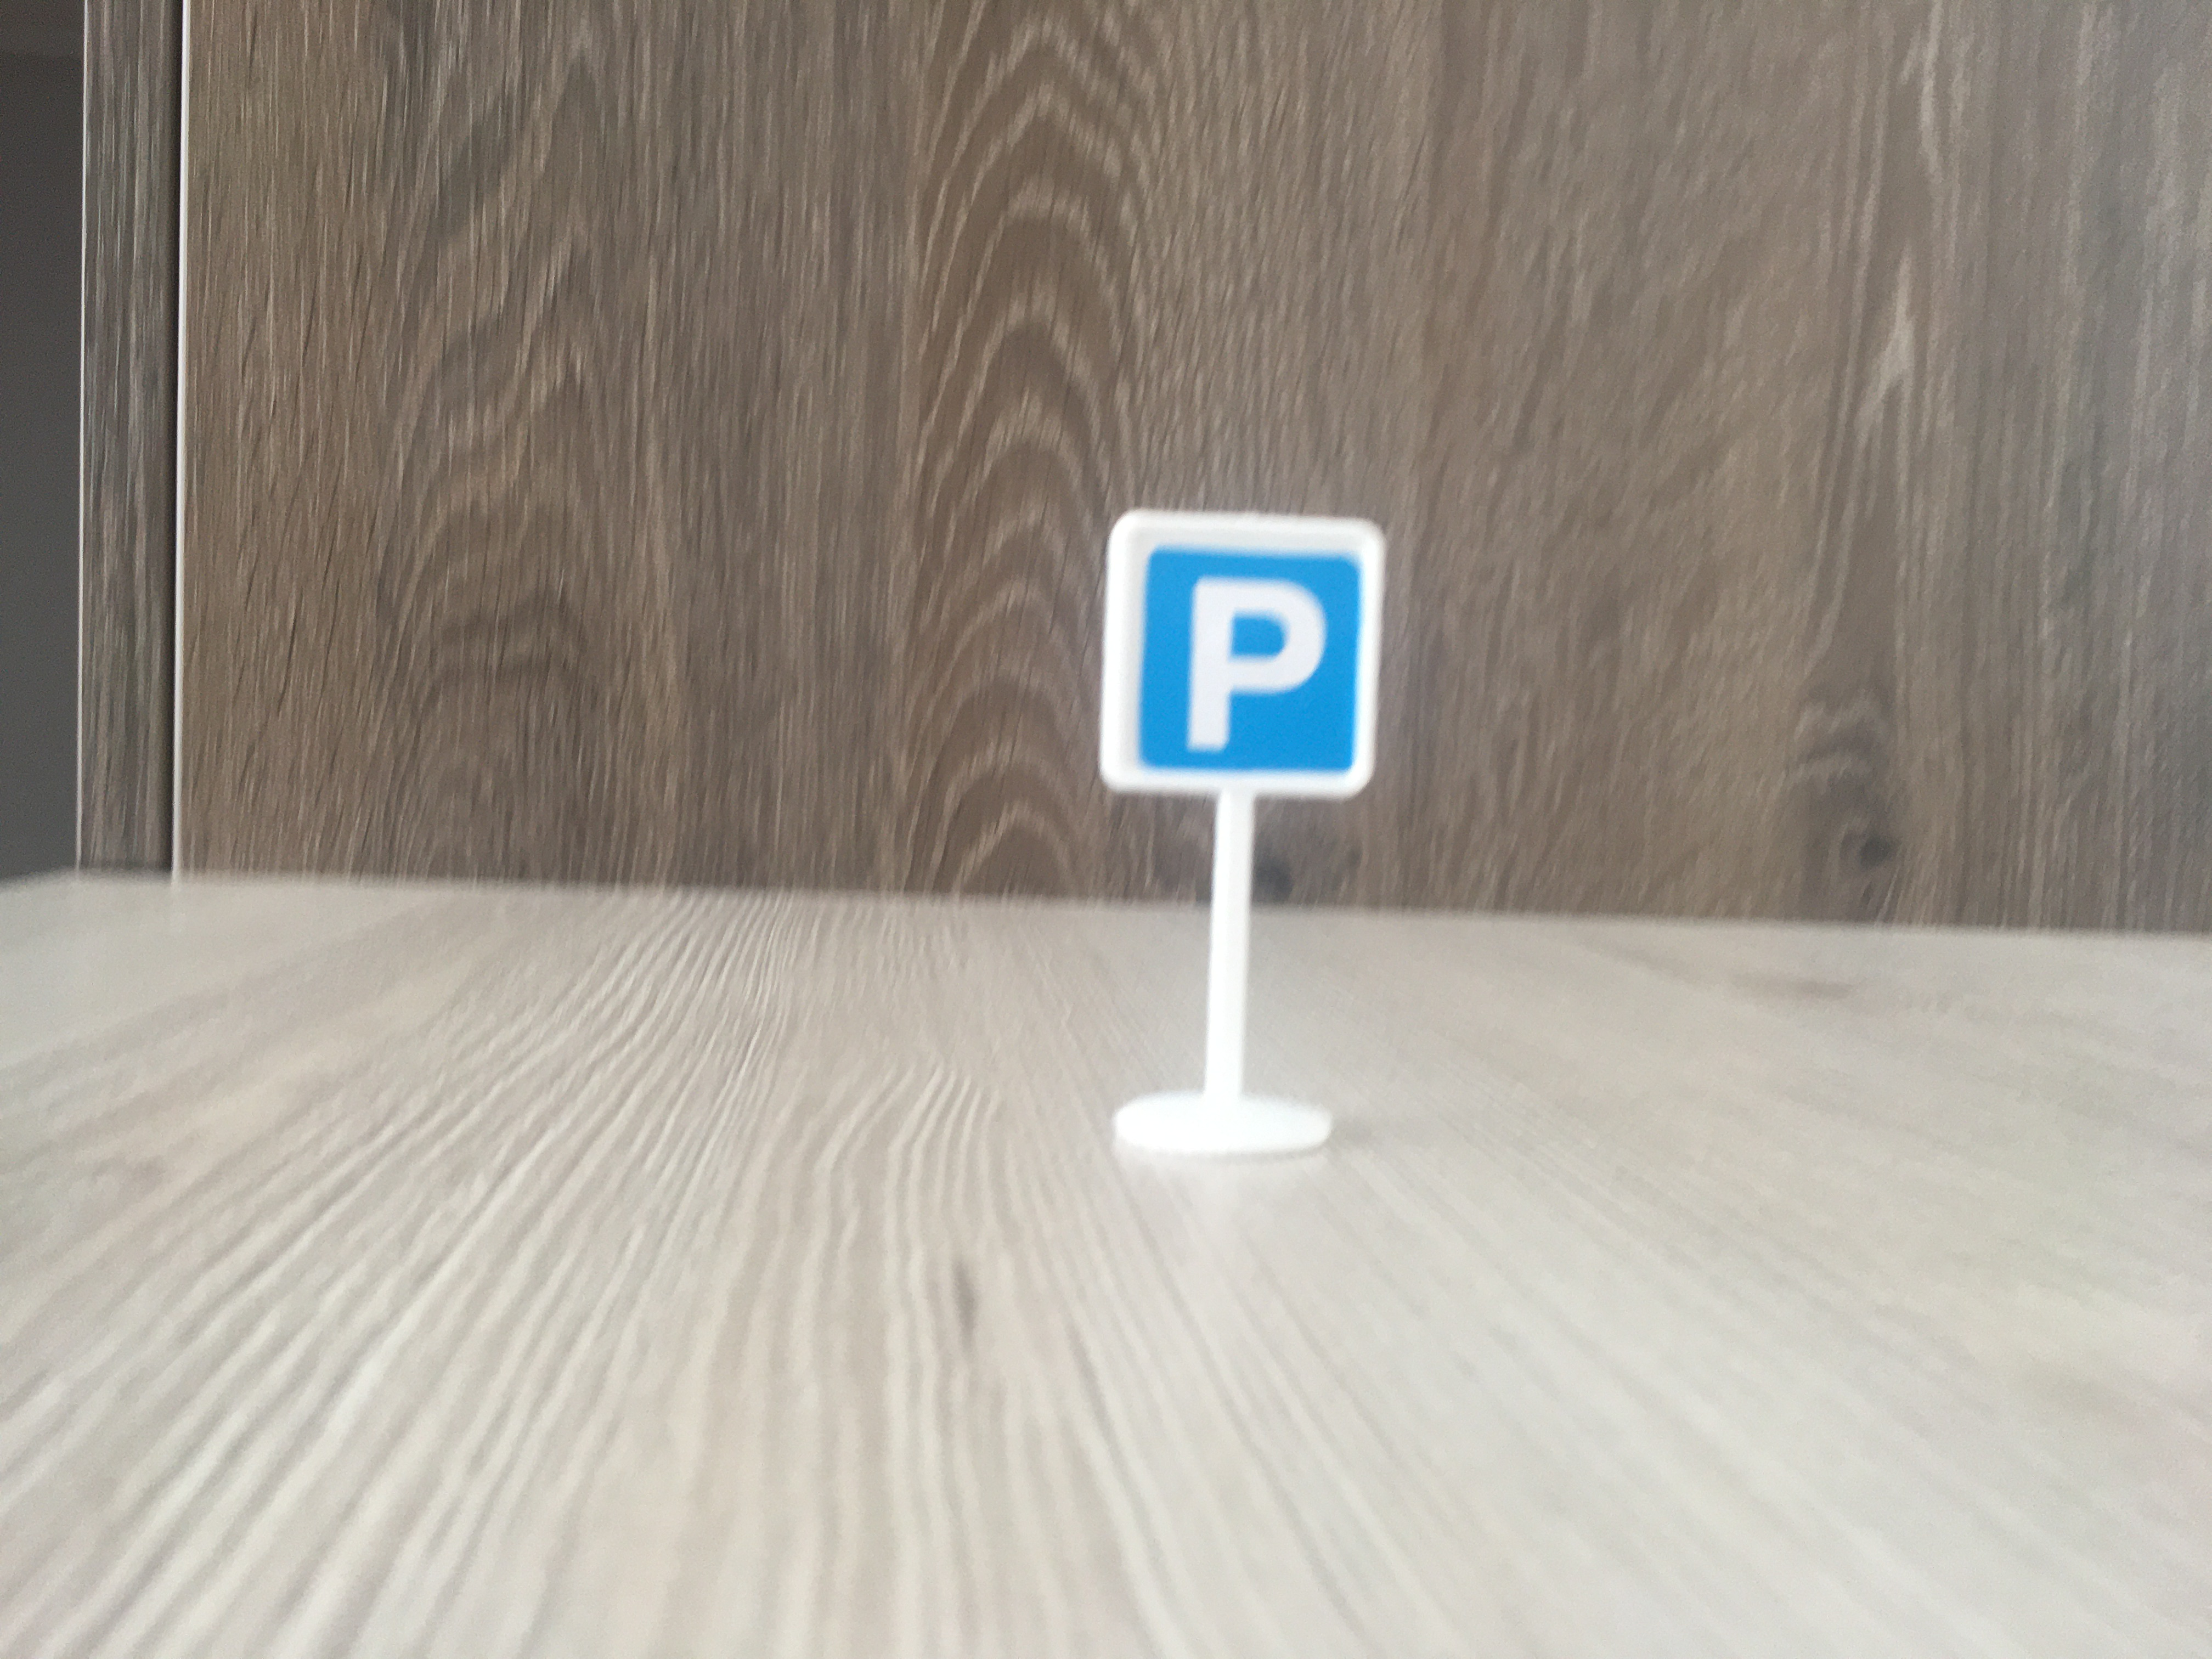parking: (1106, 512, 1376, 800)
